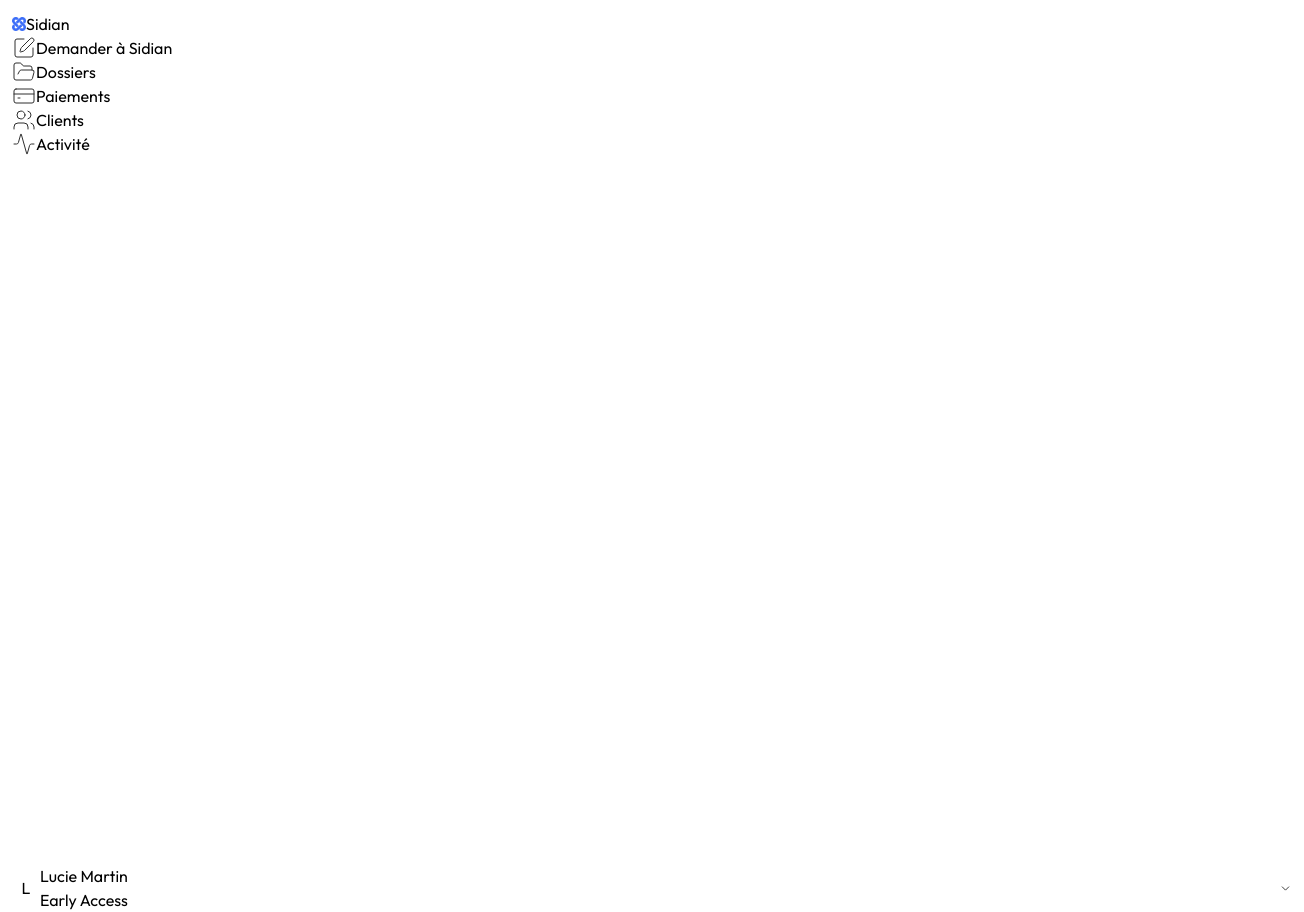
Premium AI Workspace — AppShell unique › sidebar : logo officiel, profil compact, largeur compacte 224px
Expected: the picture named "Sidian" is shown, x1=12 y1=17 x2=26 y2=31
Expected: the link with test id "sidebar-new-conversation" is shown, x1=12 y1=36 x2=172 y2=60
Click the button with test id "assistant-sidebar-profile" at (84, 876), box x1=12 y1=864 x2=1292 y2=911
(page scrolled)
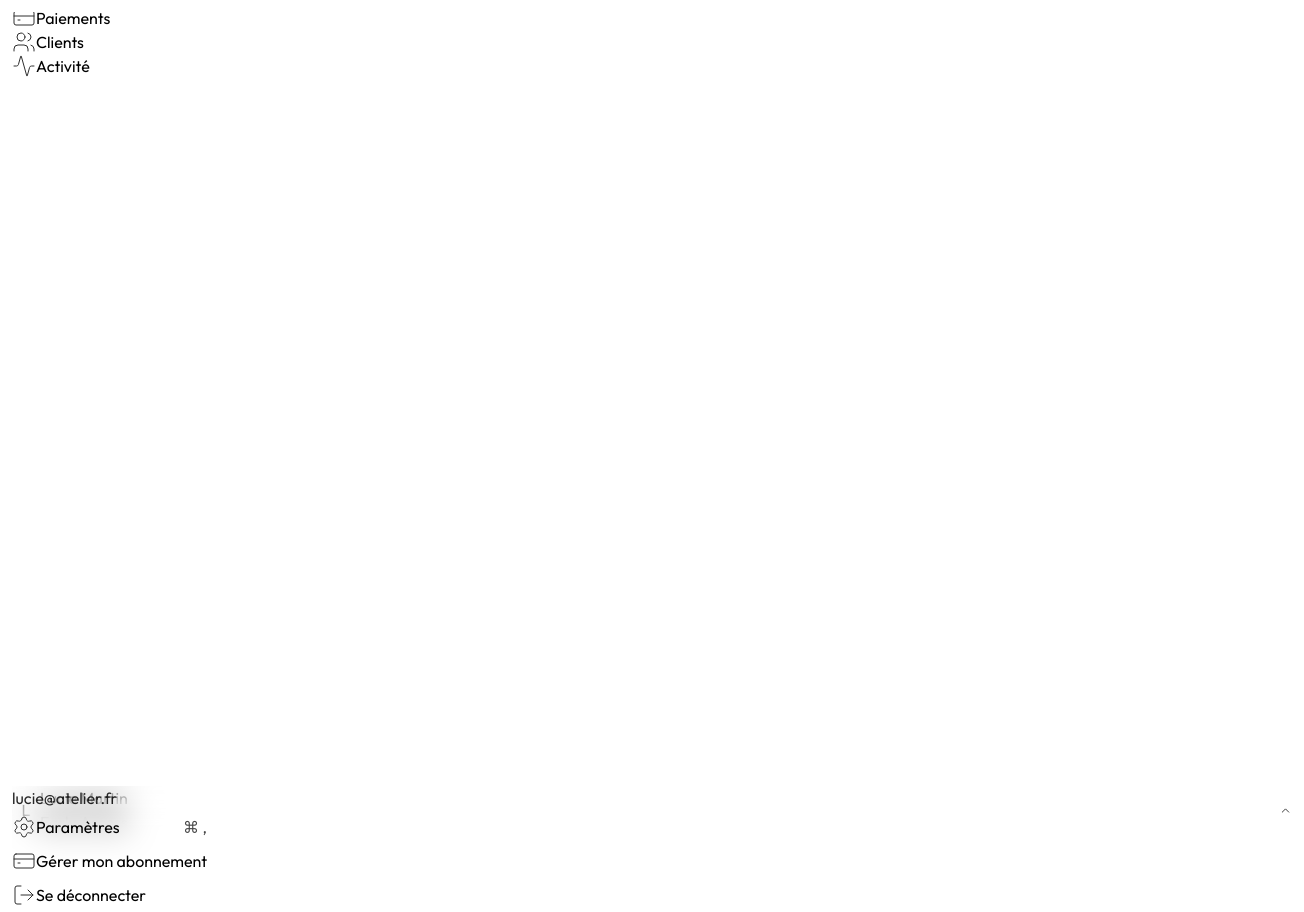
Now the text "lucie@atelier.fr" is shown, box x1=12 y1=788 x2=117 y2=808
Now the text "Paramètres" is shown, box x1=36 y1=815 x2=120 y2=839
Now the text "Gérer mon abonnement" is shown, box x1=36 y1=849 x2=207 y2=873
